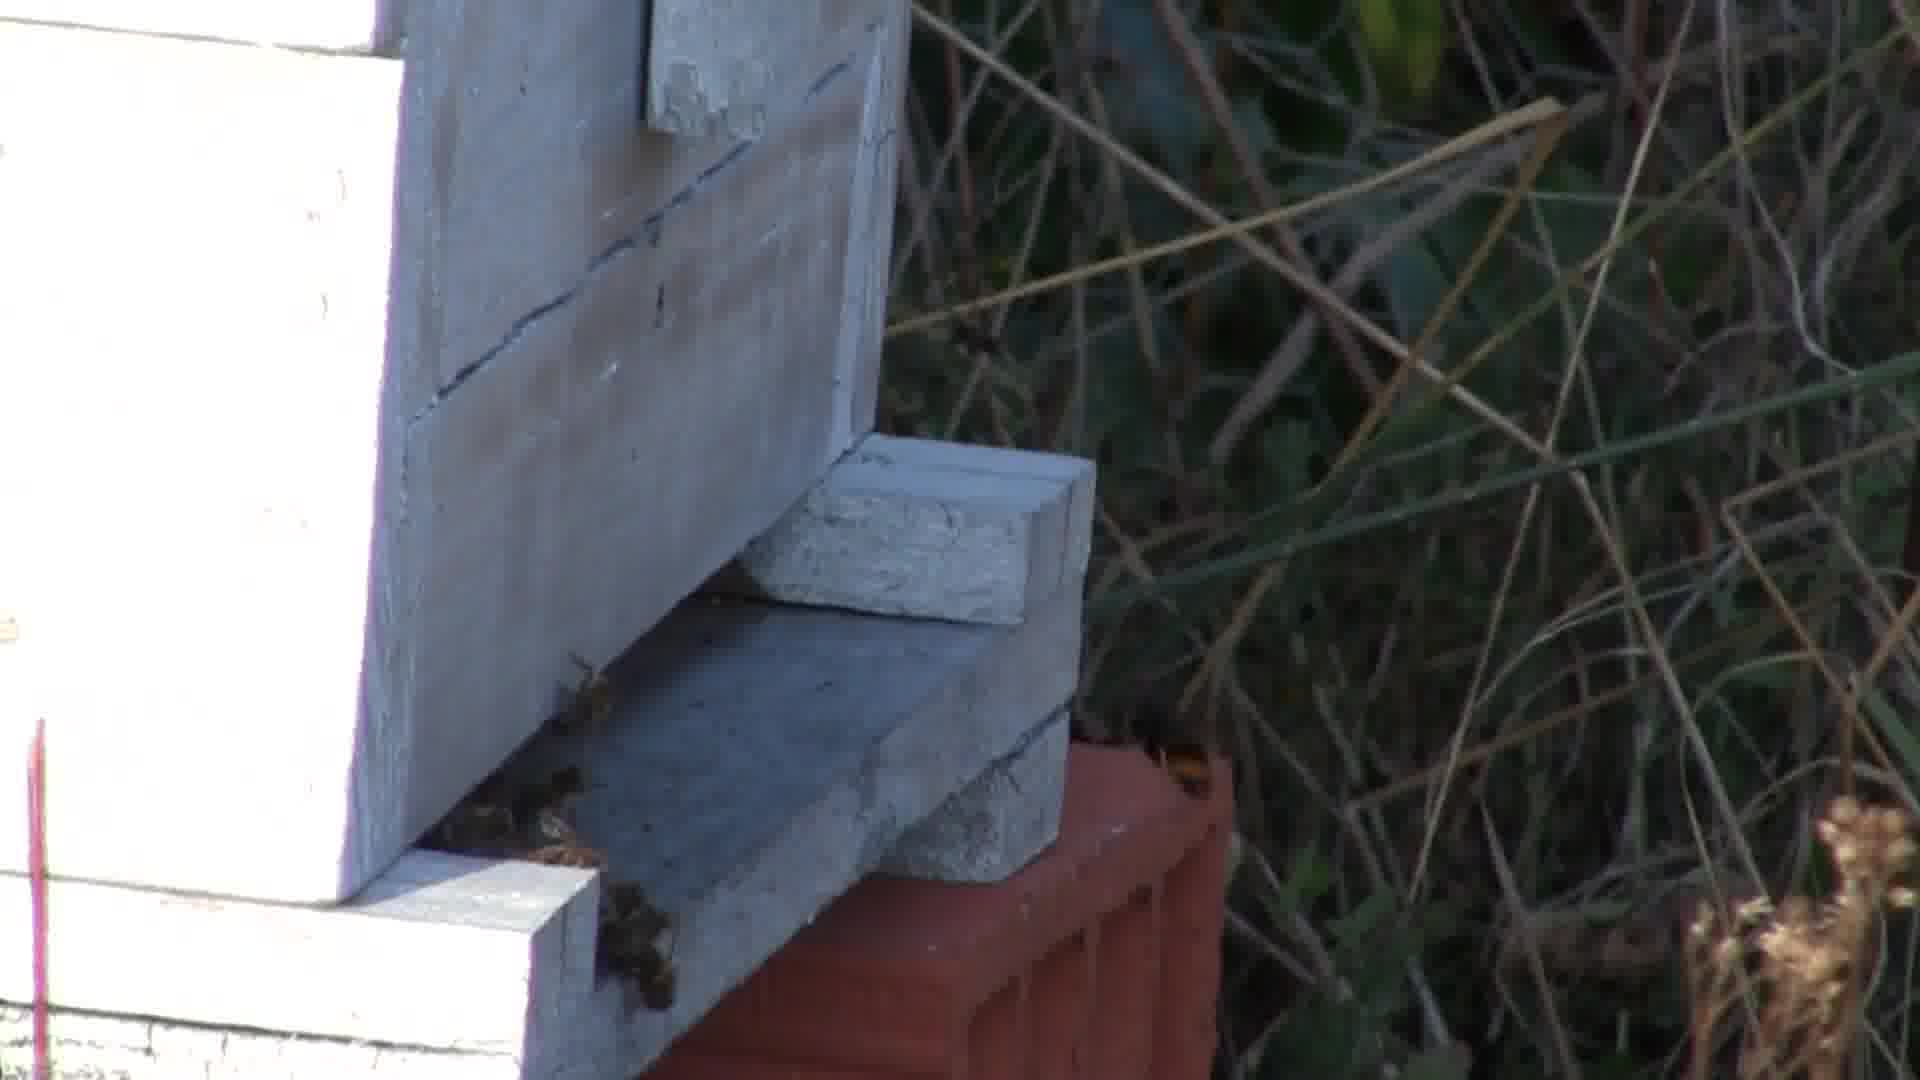bee: (591, 877, 688, 1007), (517, 767, 611, 868), (541, 655, 618, 749)
hornet: (1105, 688, 1220, 800)
